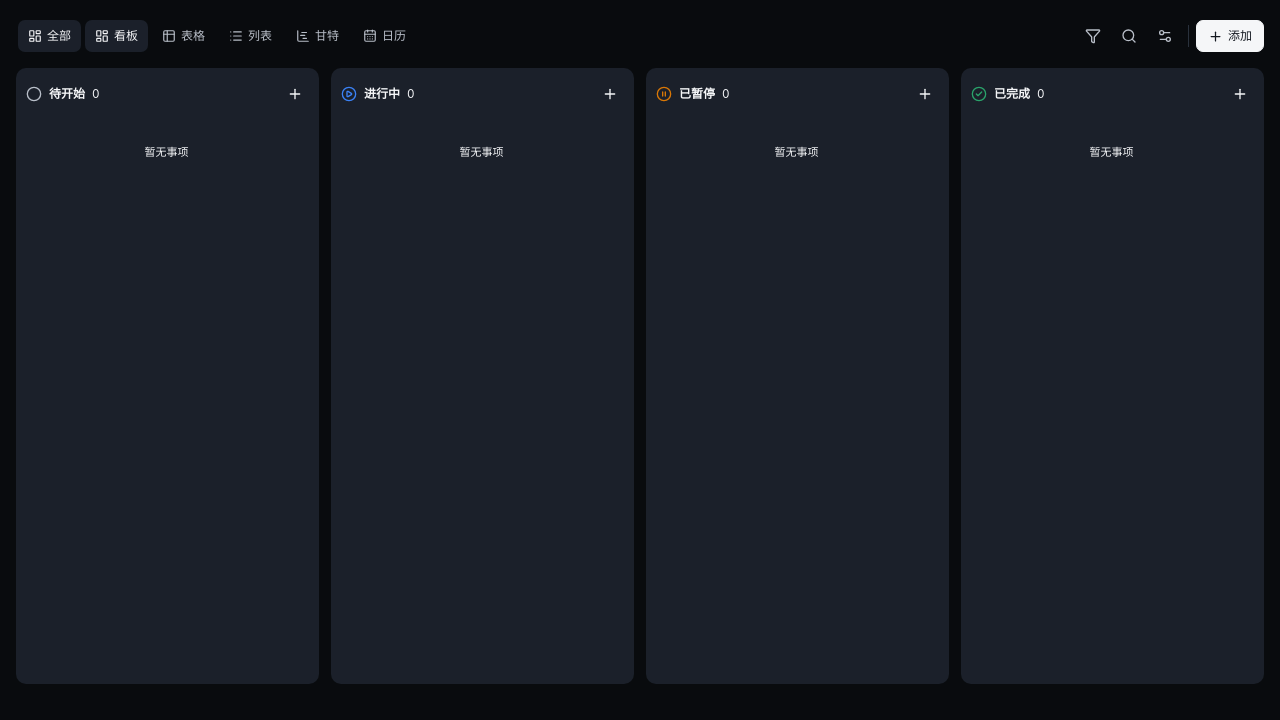
it: WorkBuddy cloud plan workspace › closes the filter menu when clicking outside
Click the button named "筛选事项" at (1093, 36), box [1077,20,1109,52]
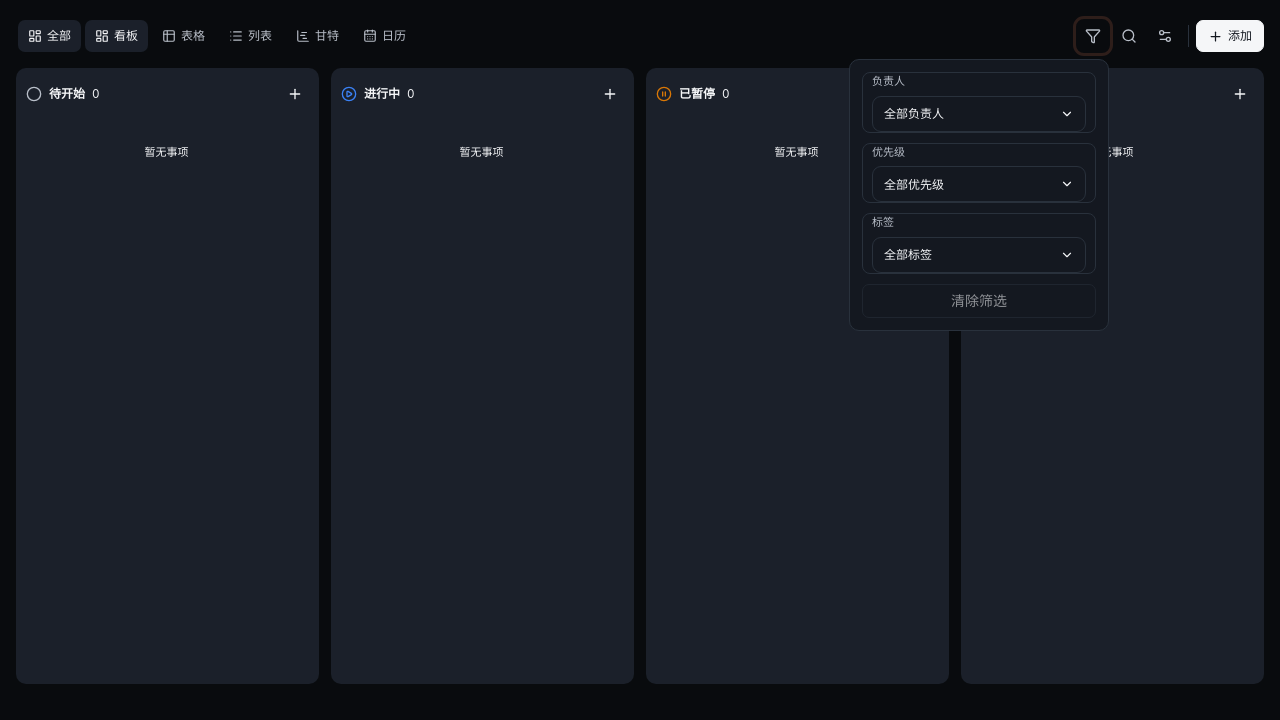
Now the dialog named "筛选事项" is shown, box [849,59,1109,331]
Click the element named "Alpha 的事项" at (640, 360), box [0,0,1279,719]
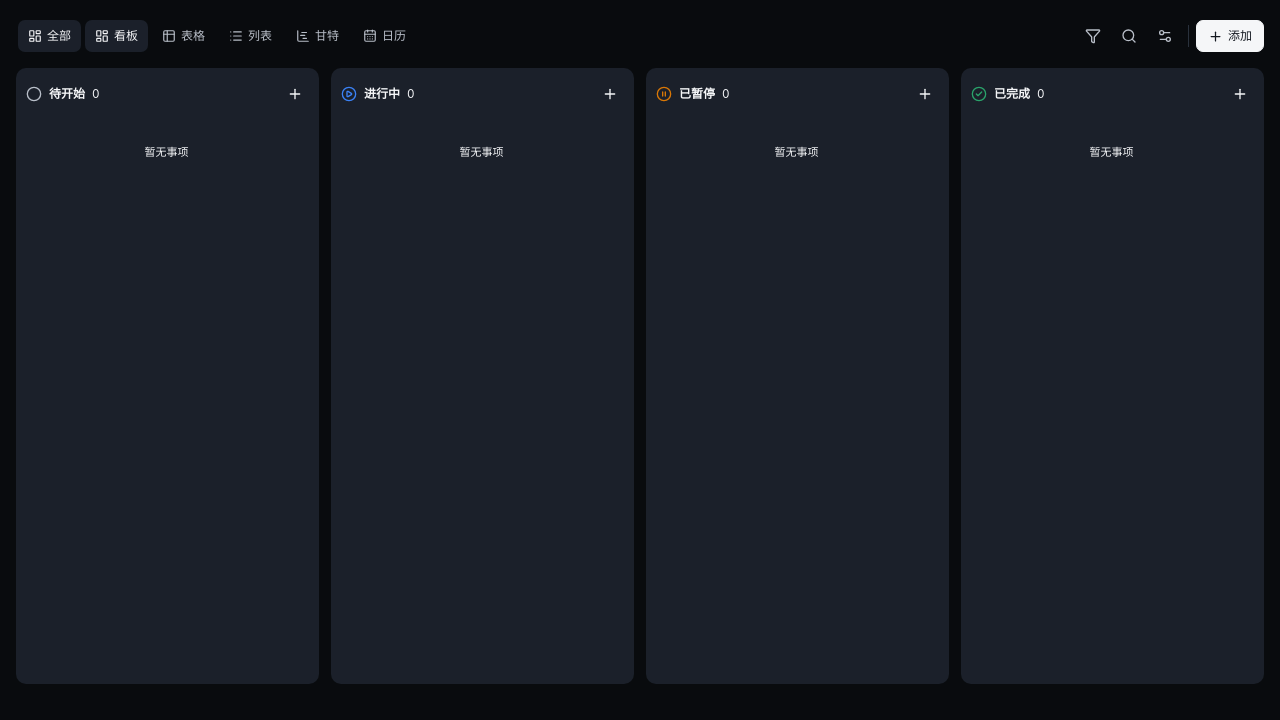
Now the dialog "负责人 全部负责人 优先级 全部优先级 标签 全部标签 清除筛选" is gone
